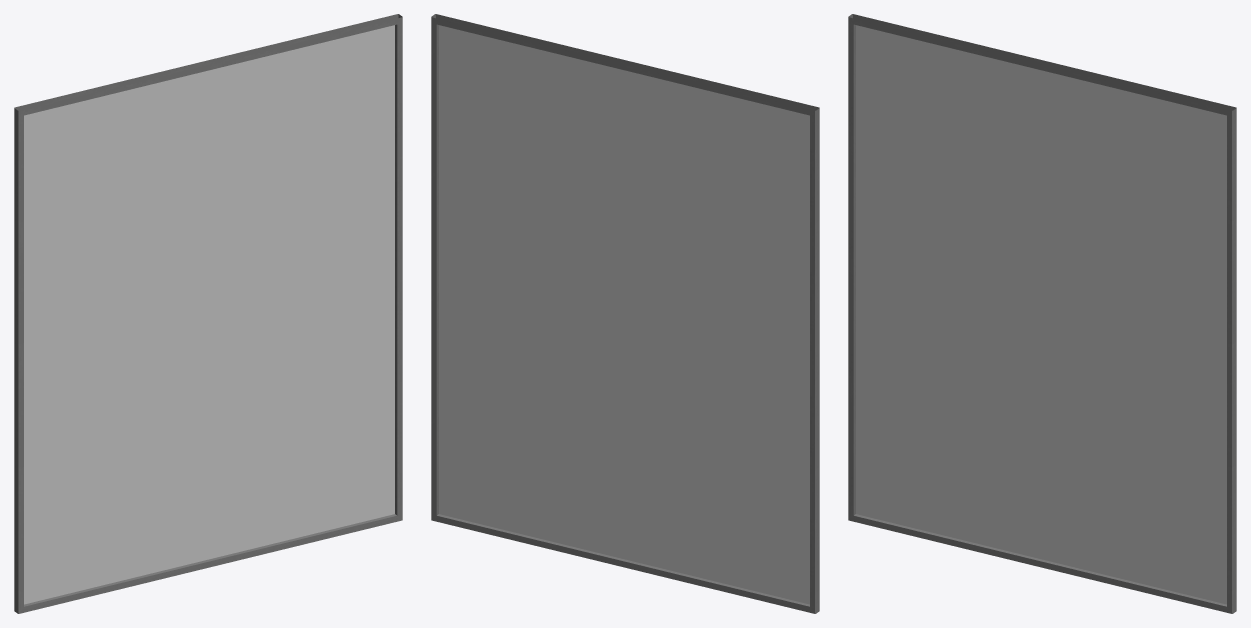
Rendered from GlassWall.glb.
The picture shows the model from 3 angles, left to right: view 1: azimuth 30°, elevation 25°; view 2: azimuth 150°, elevation 25°; view 3: azimuth 330°, elevation 25°; orthographic projection.
Visible parts, largest first — view 1: glass wall; view 2: glass wall; view 3: glass wall.
Part boxes in pixels (x1=…): glass wall: x1=14, y1=14, x2=402, y2=613; glass wall: x1=431, y1=14, x2=819, y2=613; glass wall: x1=848, y1=14, x2=1236, y2=613.
Size of the model in its own units: 2 by 2.5 by 0.04.
Materials: 2 (1 with a texture image).
